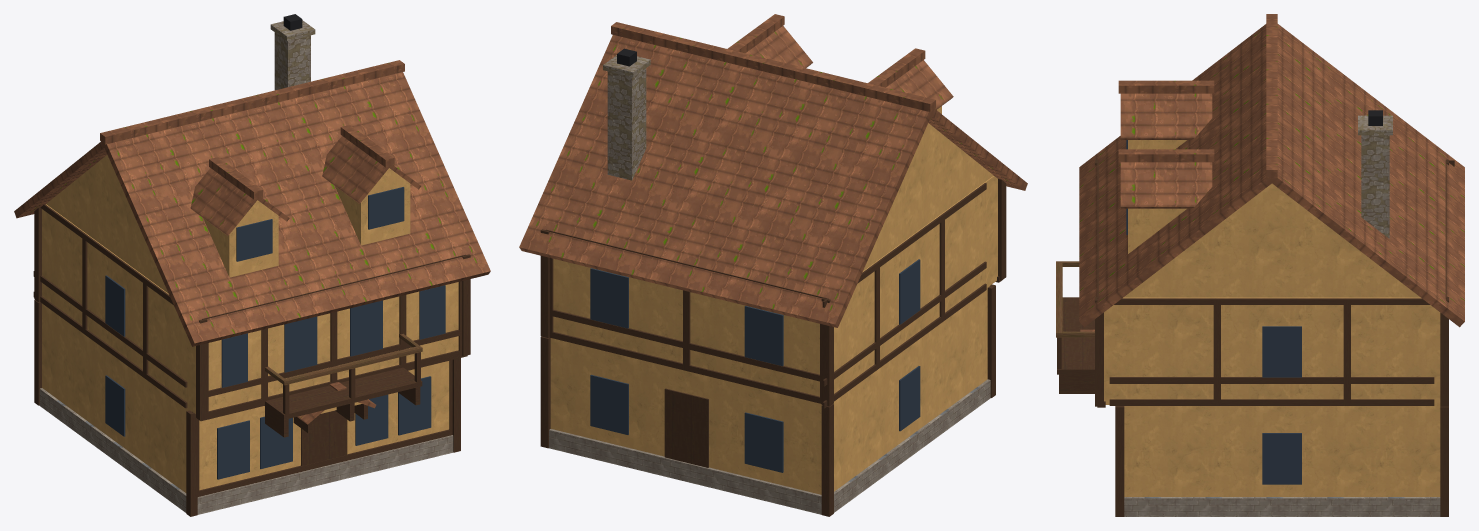
Rendered from dormer_house.glb.
3 renders of one model, left to right at view 1: azimuth 30°, elevation 25°; view 2: azimuth 150°, elevation 25°; view 3: azimuth 270°, elevation 25°, orthographic. The views are drawn at different scales.
Visible parts, largest first — view 1: dormer_house; view 2: dormer_house; view 3: dormer_house.
Boxes of the visible parts, x1=… form: dormer_house: x1=14, y1=14, x2=490, y2=516; dormer_house: x1=519, y1=14, x2=1027, y2=516; dormer_house: x1=1056, y1=14, x2=1464, y2=516.
Bounding box in the file's own units: 9.1 × 10.32 × 10.07.
Materials: 7 (5 with a texture image).
